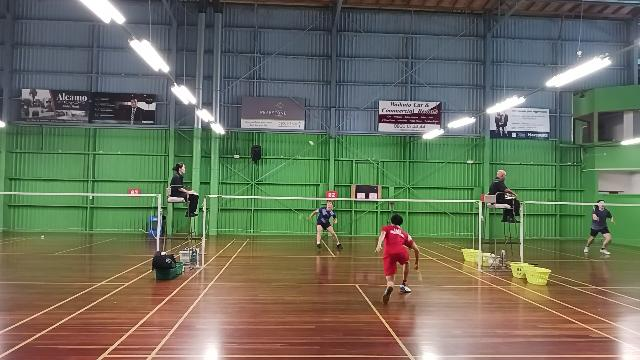Shuttlecock: (307, 138, 315, 146)
